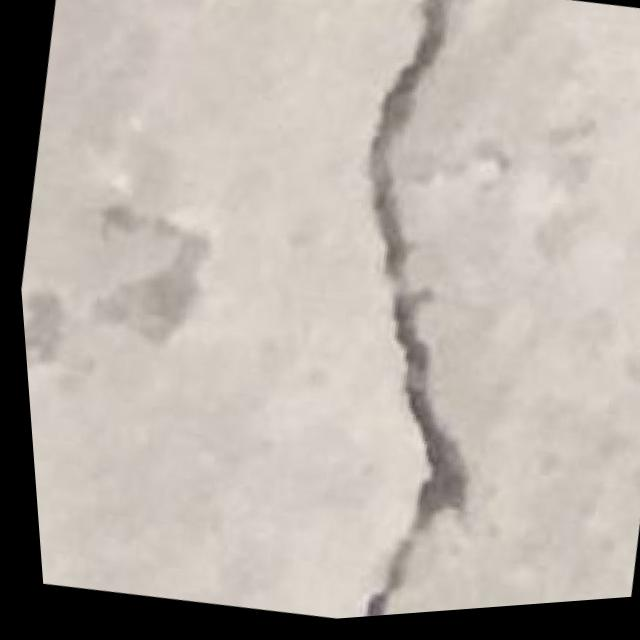Crack: (260, 0, 575, 625)
